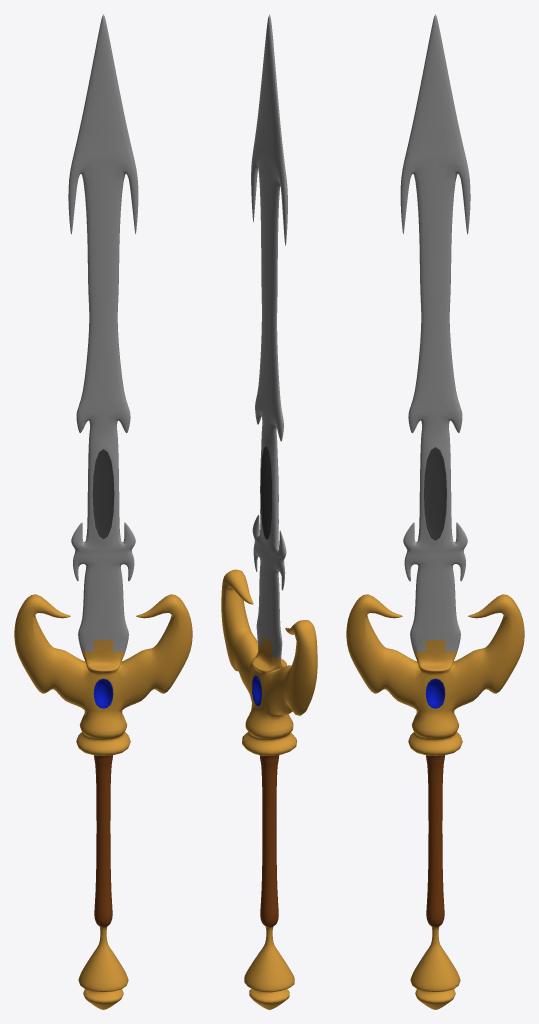
The model's file is YearsOfTimeCOLORIZED (1).fbx.
3 views of the same model, side by side, from view 1: azimuth 90°, elevation 25°; view 2: azimuth 210°, elevation 25°; view 3: azimuth 270°, elevation 25° (orthographic).
Parts seen in each view (by area): view 1: Cube.001; view 2: Cube.001; view 3: Cube.001.
Boxes of the visible parts, x1,y1,x2,y2 form: Cube.001: [14, 14, 192, 1009]; Cube.001: [221, 14, 317, 1009]; Cube.001: [346, 14, 524, 1009].
Size of the model in its own units: 51.37 by 1037 by 168.
